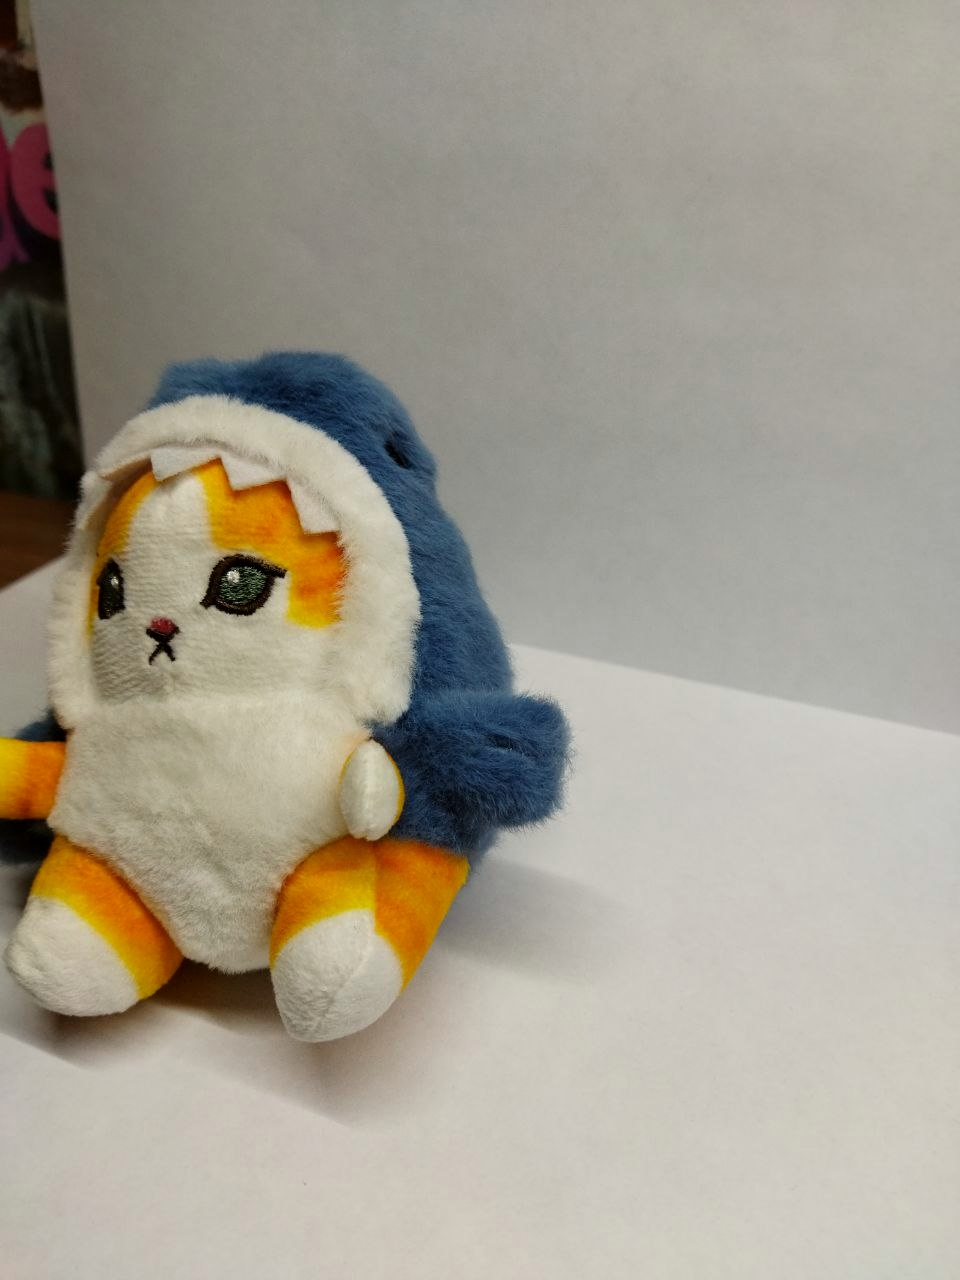Snark Cat: (1, 352, 571, 1047)
